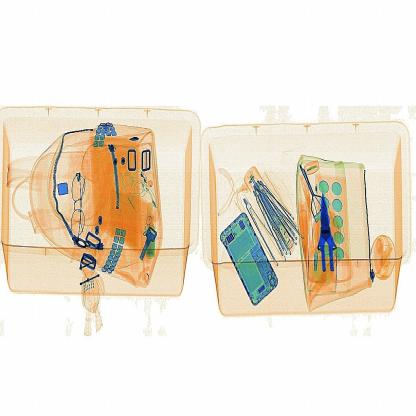gun: (307, 188, 359, 289)
